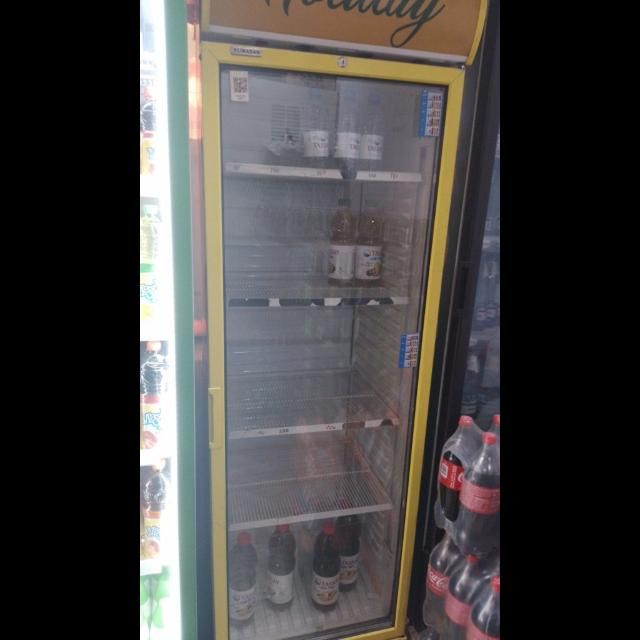Cooling-Display: (199, 1, 487, 640)
